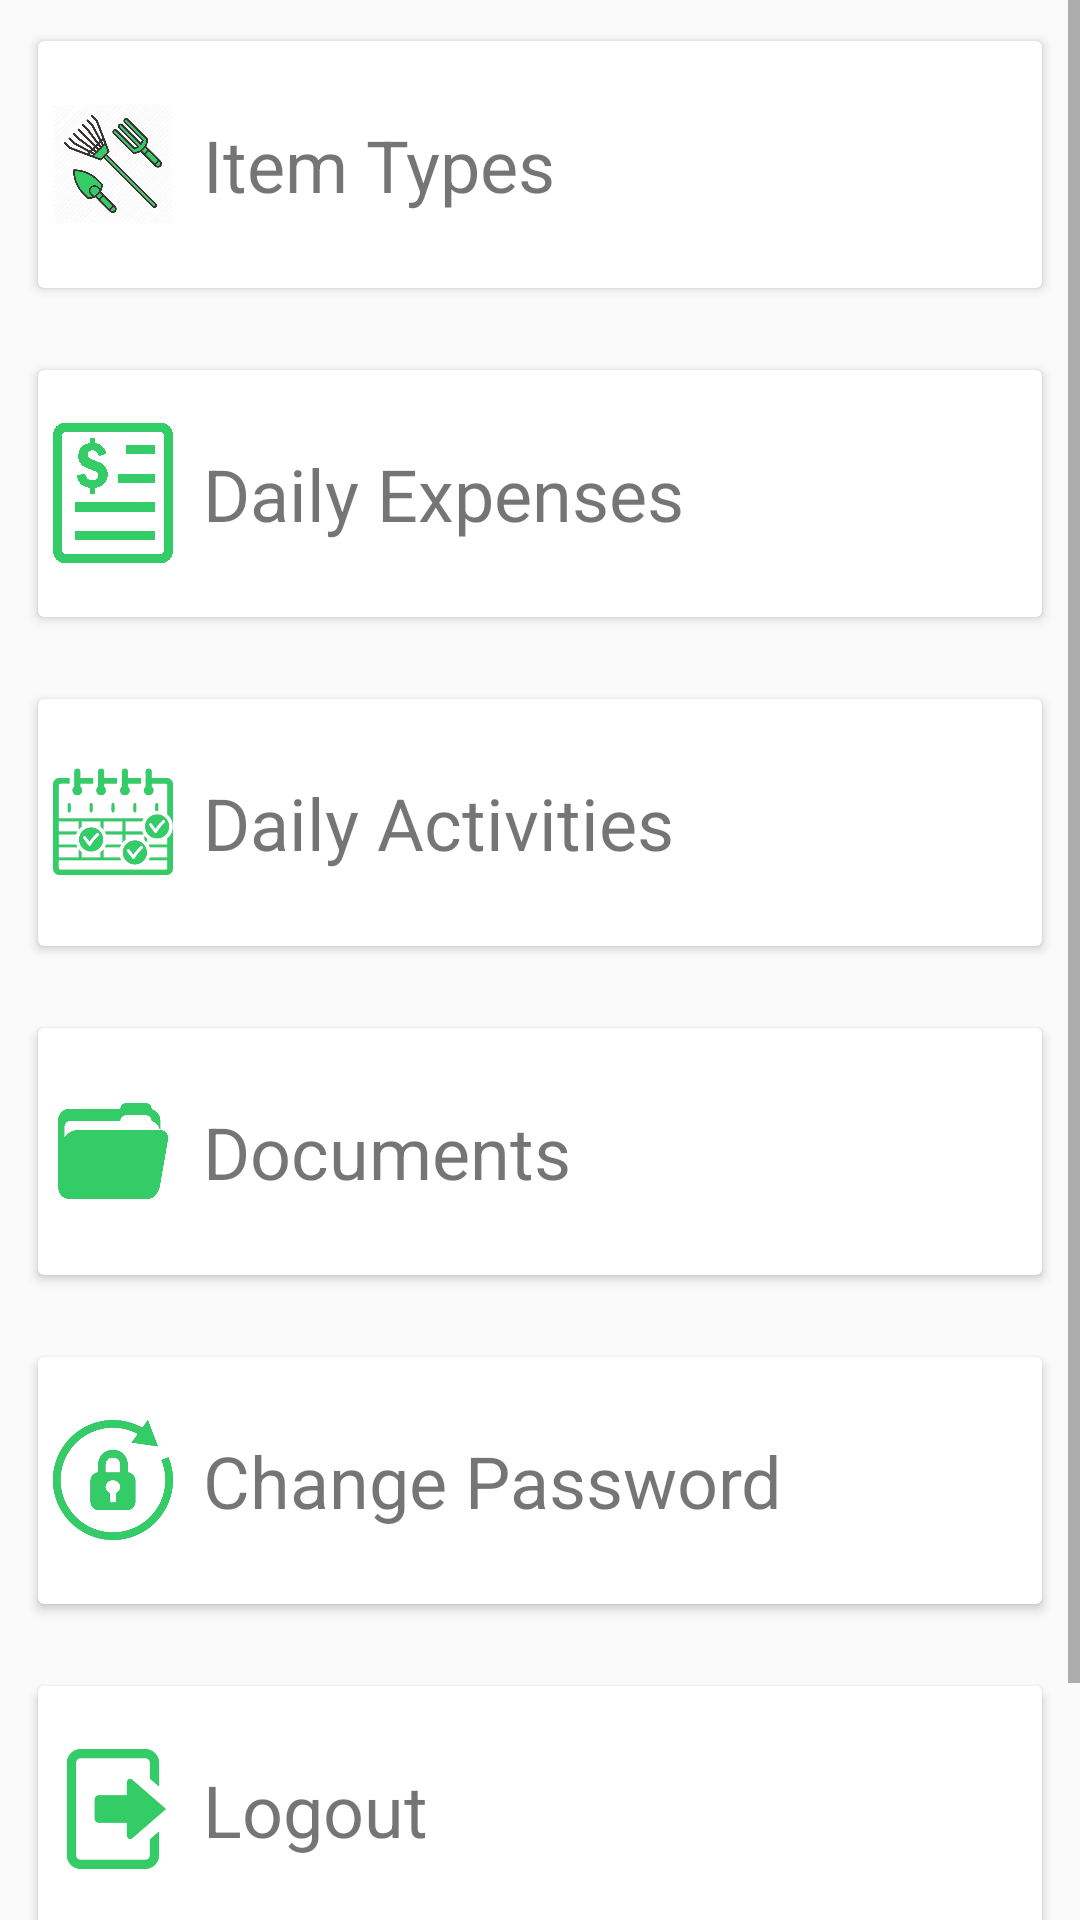

Screen size 1080px x 1920px. Icon name, then its box in pixels as [x1,y1,x2,y2]:
change pwd: [53,1420,173,1540]
